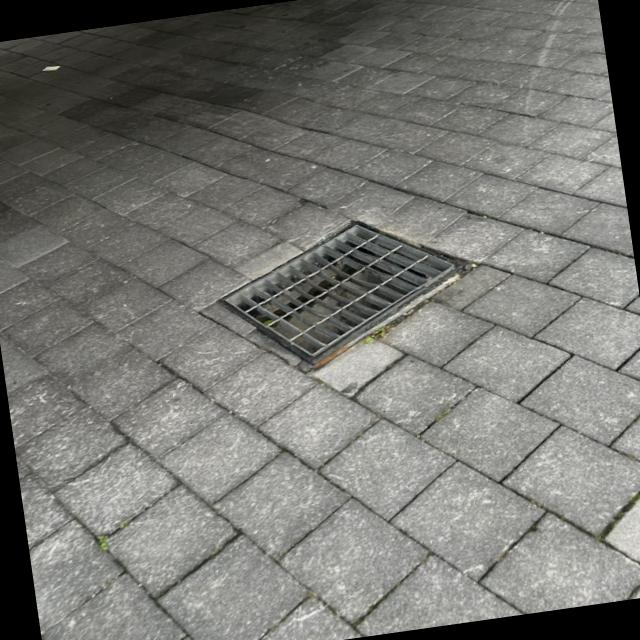drain_area: (225, 226, 459, 356)
drain_full: (226, 226, 456, 356)
